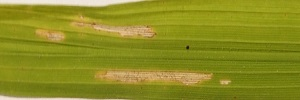RiceBacterialBlight: (33, 15, 160, 47), (90, 62, 232, 90)
